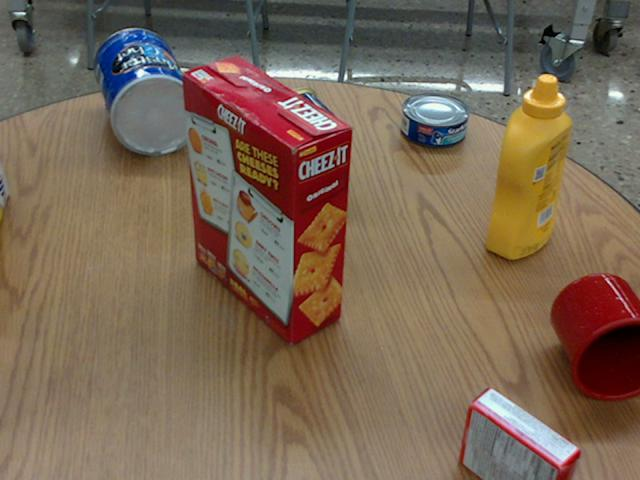cracker_box: (185, 57, 355, 343)
gelatin_box: (460, 389, 581, 479)
master_chef_can: (96, 29, 201, 155)
mug: (551, 273, 639, 401)
mustard_bottle: (486, 75, 572, 258)
potted_meat_can: (273, 86, 351, 198)
sugar_box: (0, 152, 9, 230)
tuna_fish_can: (402, 91, 470, 147)
